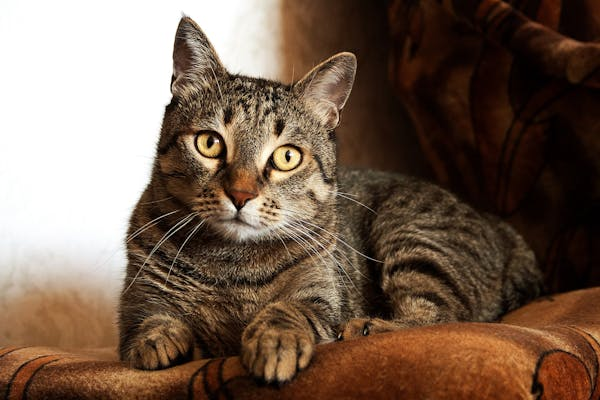Cat: (118, 18, 545, 385)
